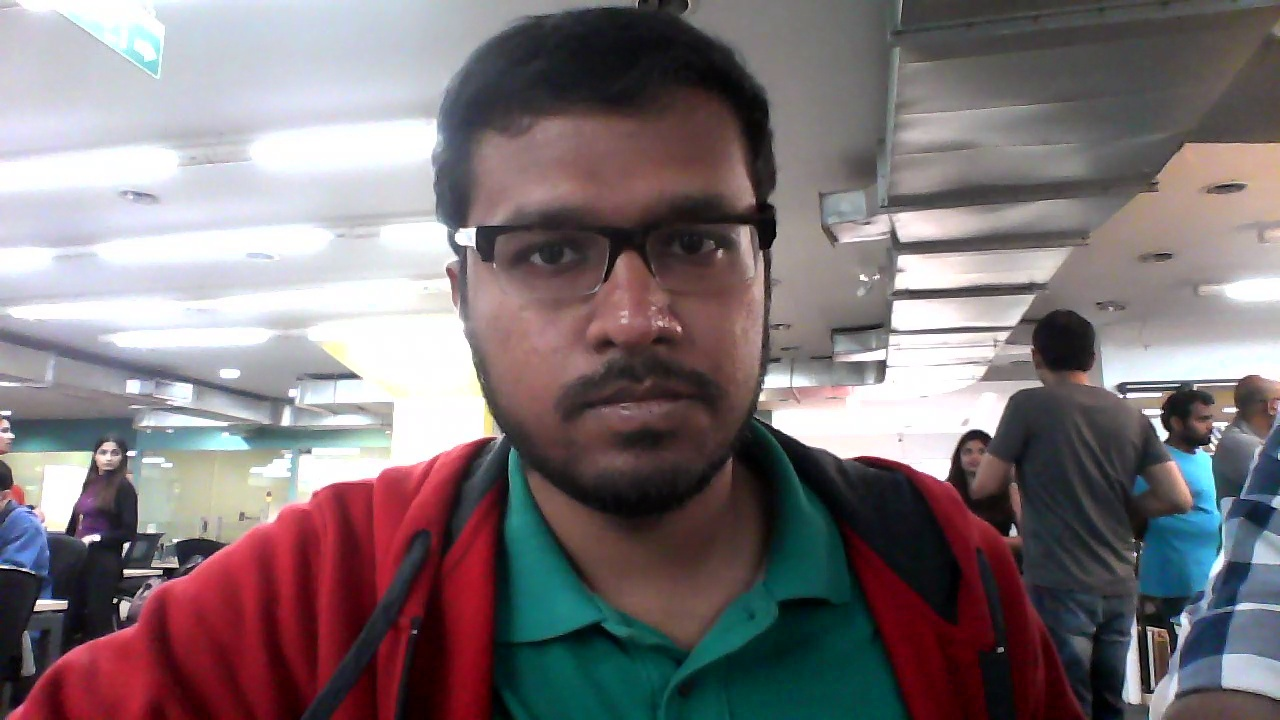open: (430, 5, 784, 526)
